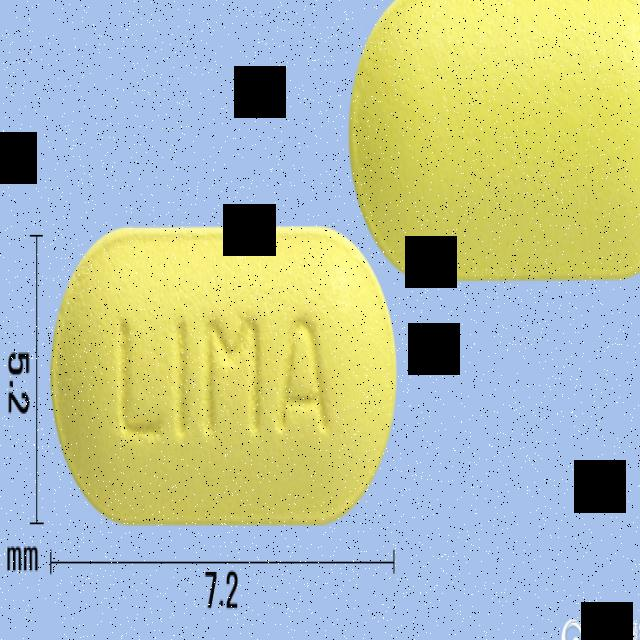Liamclo -250mg: (52, 226, 400, 527)
